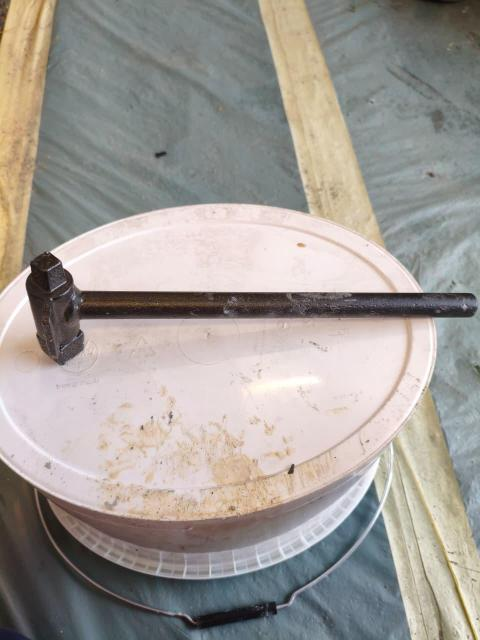Metal: (30, 257, 480, 358)
